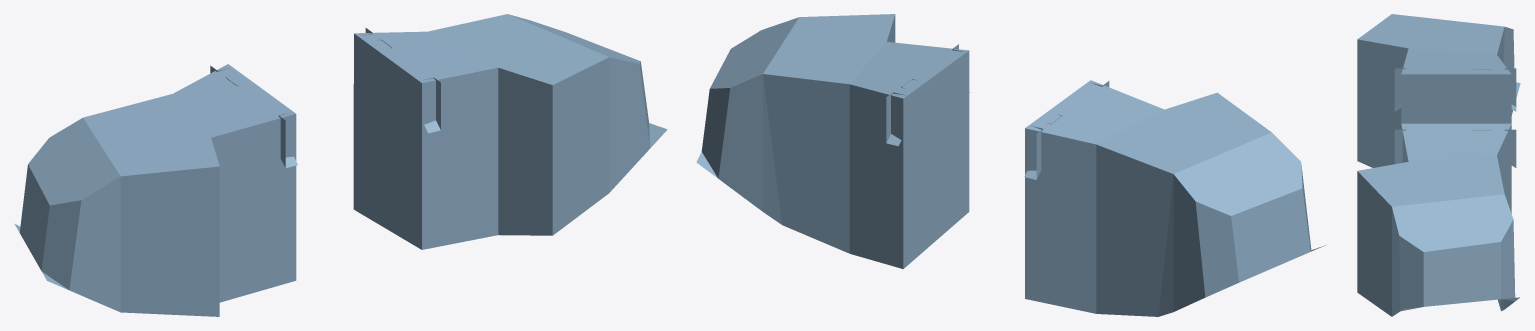
The model's file is back chassis dock.FBX.
The picture shows the model from 3 angles, left to right: view 1: azimuth 30°, elevation 25°; view 2: azimuth 150°, elevation 25°; view 3: azimuth 270°, elevation 25°; orthographic projection. The views are drawn at different scales.
Parts seen in each view (by area): view 1: Object23+; view 2: Object23+; view 3: Object23+.
Part boxes in pixels (x1=…): Object23+: x1=14, y1=14, x2=667, y2=316; Object23+: x1=696, y1=14, x2=1325, y2=316; Object23+: x1=1357, y1=14, x2=1520, y2=316.
Bounding box in the file's own units: 0.144 × 0.0405 × 0.0405.
